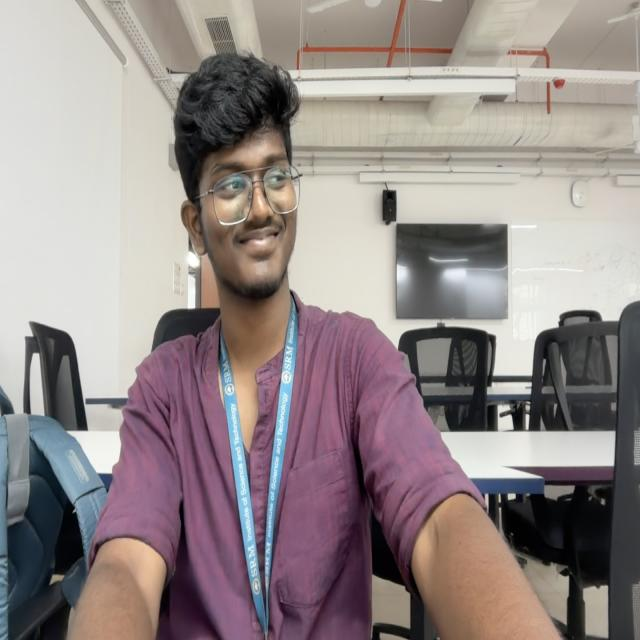ravindra: (175, 52, 302, 306)
